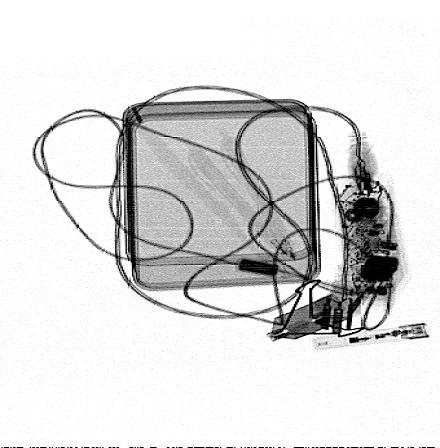Lighter: (314, 322, 432, 350)
